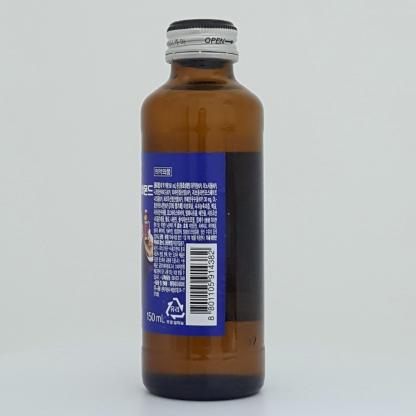---------------150ML: (140, 18, 265, 401)
